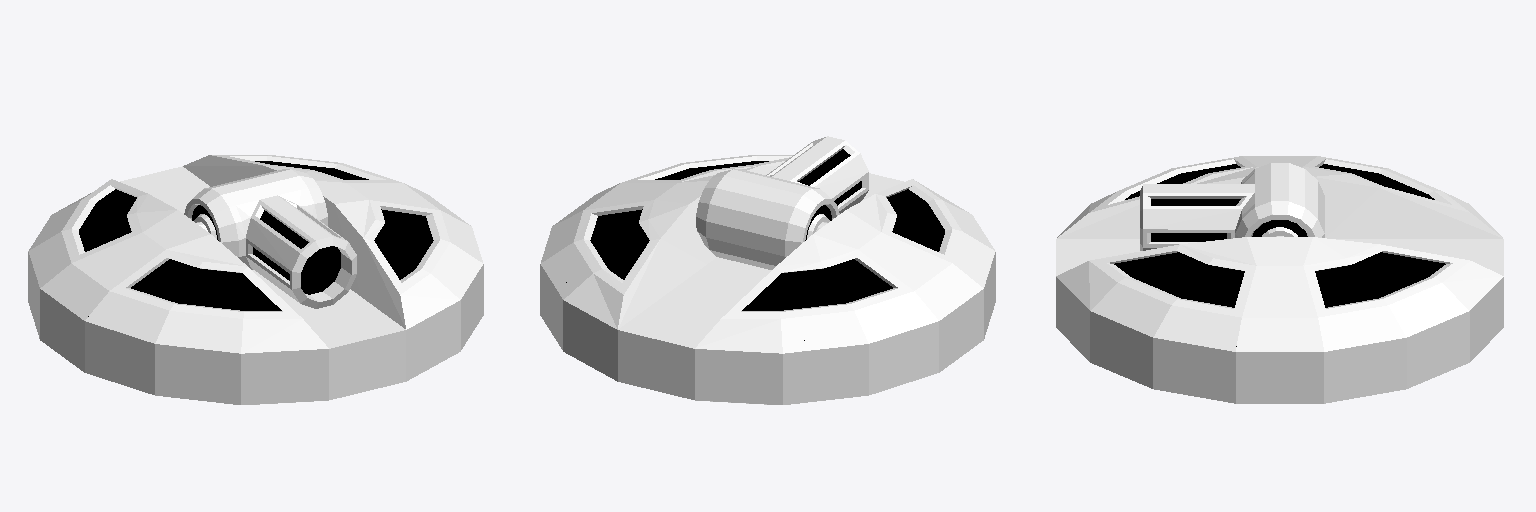
3 renders of one model, left to right at view 1: azimuth 30°, elevation 25°; view 2: azimuth 150°, elevation 25°; view 3: azimuth 270°, elevation 25°, orthographic.
Parts seen in each view (by area): view 1: Body, Barrel; view 2: Body, Barrel; view 3: Body, Barrel.
Part boxes in pixels (bbox=[...]): Body: bbox=[28, 155, 483, 404]; Barrel: bbox=[184, 169, 356, 308]; Body: bbox=[540, 155, 995, 404]; Barrel: bbox=[696, 136, 868, 269]; Body: bbox=[1056, 156, 1503, 403]; Barrel: bbox=[1140, 163, 1324, 250].
Bounding box in the file's own units: 1.96 × 0.7148 × 1.96.
Materials: 2 (2 with a texture image).